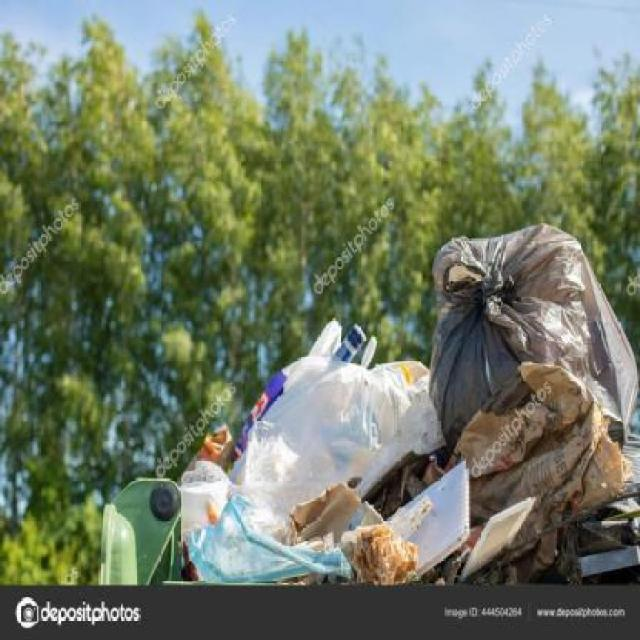garbage: (428, 231, 620, 566), (251, 348, 504, 580), (88, 456, 474, 582)
